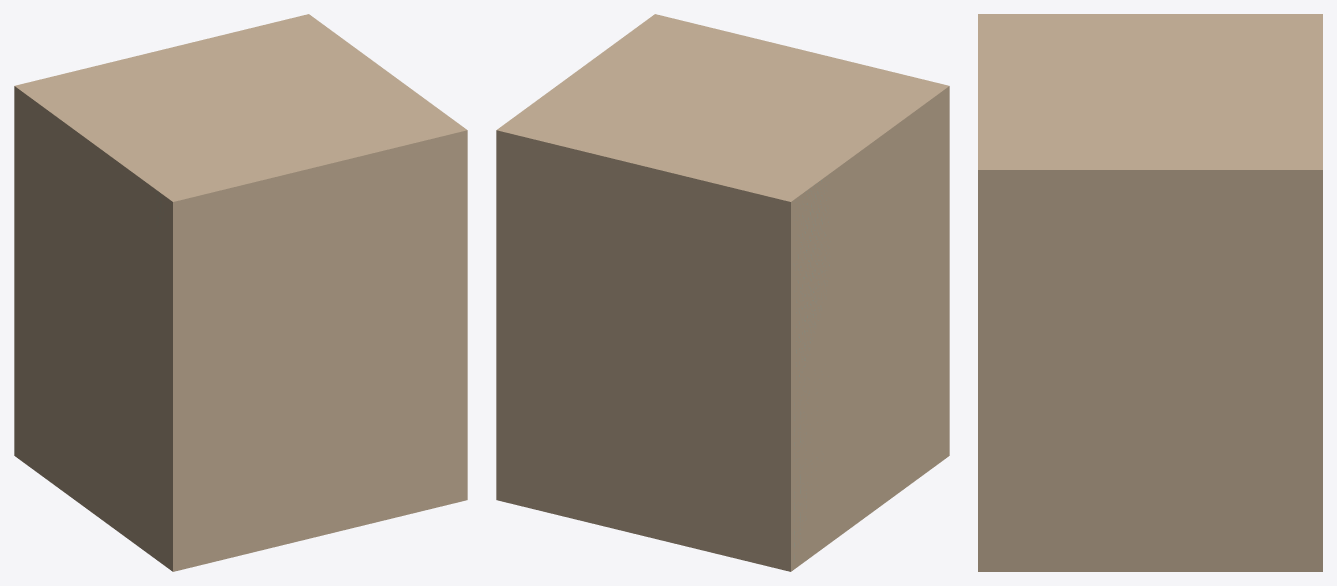
File: unit-600.glb
3 renders of one model, left to right at view 1: azimuth 30°, elevation 25°; view 2: azimuth 150°, elevation 25°; view 3: azimuth 270°, elevation 25°, orthographic. The views are drawn at different scales.
Visible parts, largest first — view 1: body; view 2: body; view 3: body.
Part boxes in pixels (x1,y1,x2,y2): body: [14, 14, 467, 571]; body: [496, 14, 949, 571]; body: [978, 14, 1322, 571].
Size of the model in its own units: 0.6 by 0.72 by 0.56.
